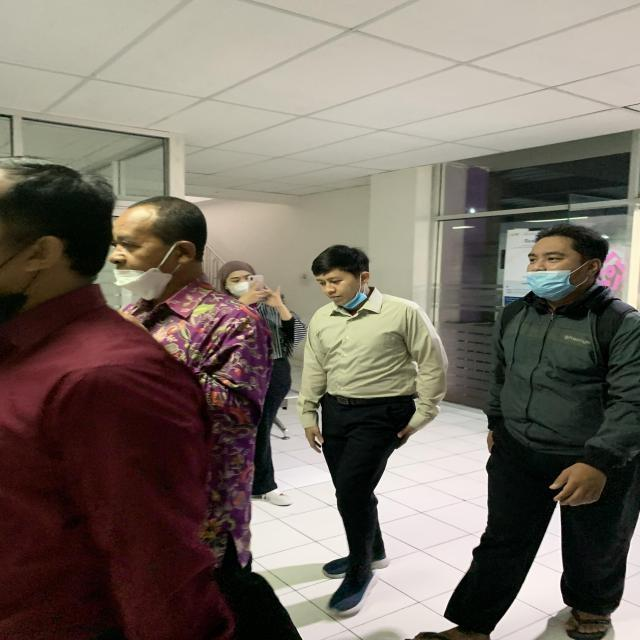hairnet: (114, 194, 208, 304), (522, 224, 610, 304), (308, 244, 378, 308)
